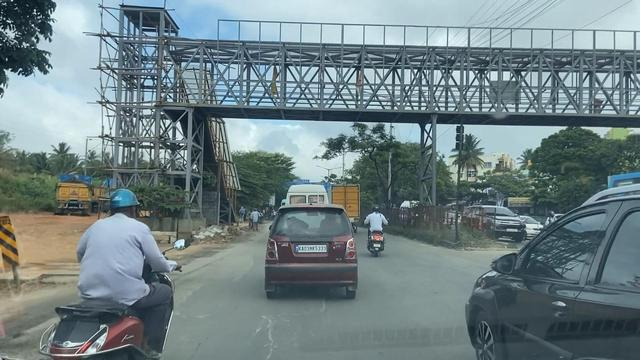LMV: (265, 206, 358, 295), (362, 208, 387, 257)
RoadDamages: (182, 237, 228, 283), (253, 307, 282, 360)
